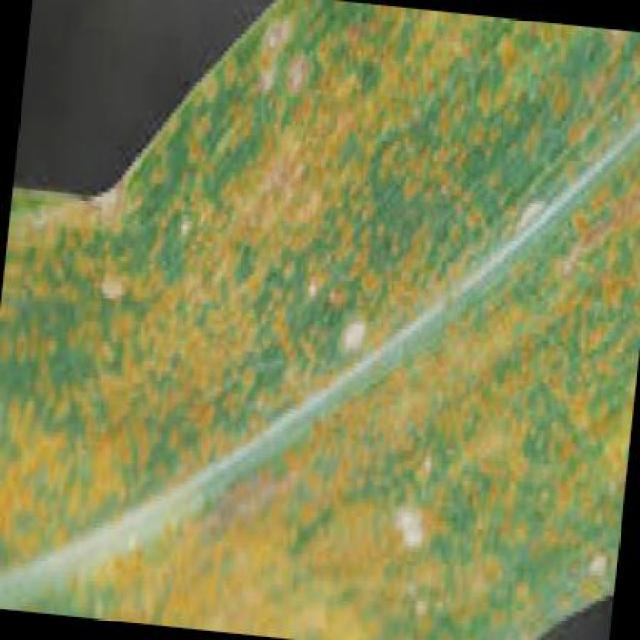Corn_Rust: (68, 63, 609, 612)
